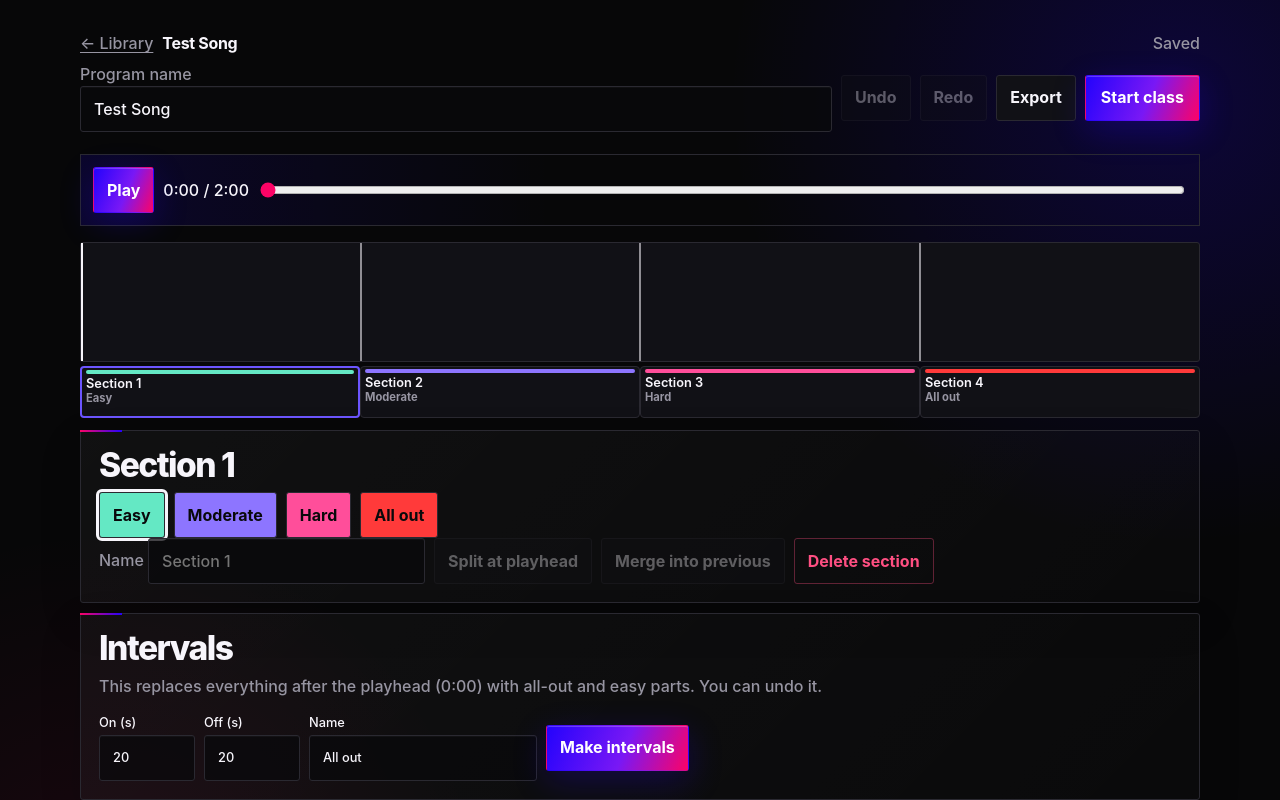
Test case: Editor › picking a section selects it
The image size is (1280, 800).
Click the button "Section 3 Hard": (780, 371) [640,366,920,418]
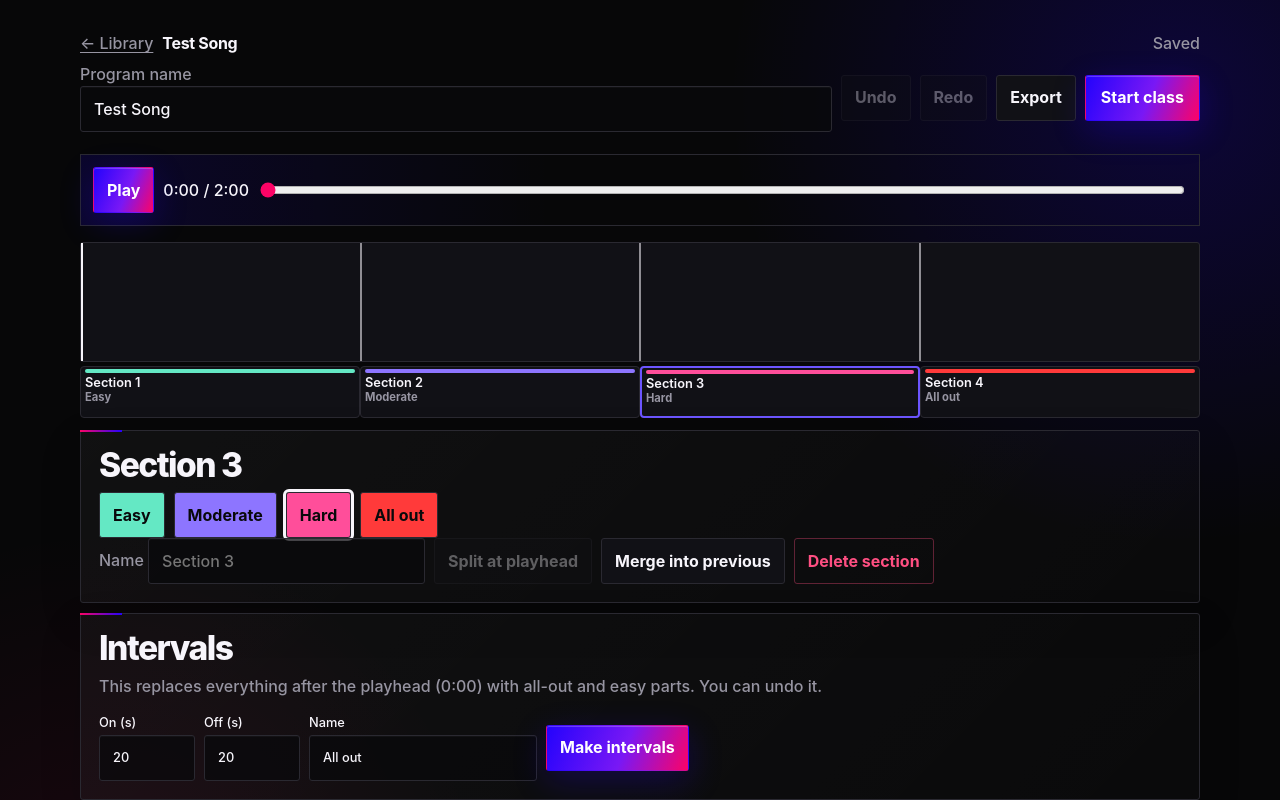
Expected: the heading "Section 3" is shown, [99,444,242,485]
